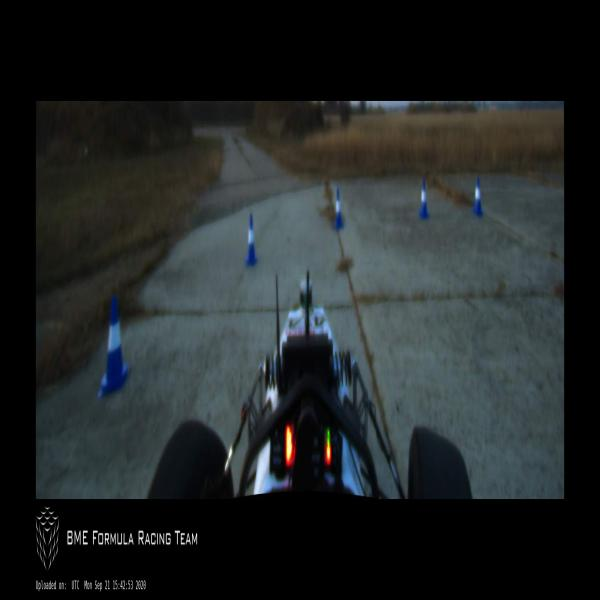blue_cone: (97, 296, 130, 402), (246, 215, 258, 267), (472, 177, 484, 218), (419, 180, 429, 221), (334, 189, 343, 229)
